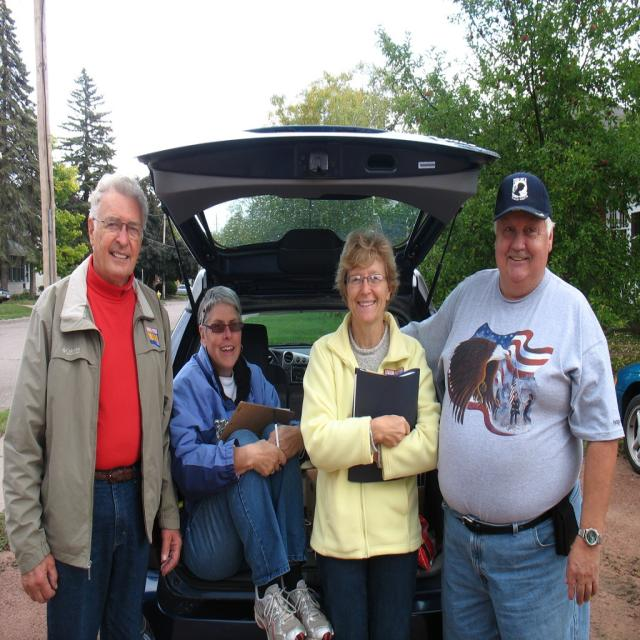car: (88, 124, 541, 614), (613, 356, 639, 474)
